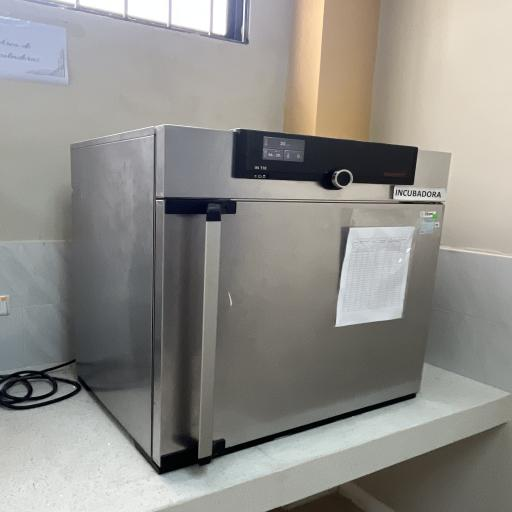Incubadora: (54, 114, 460, 479)
